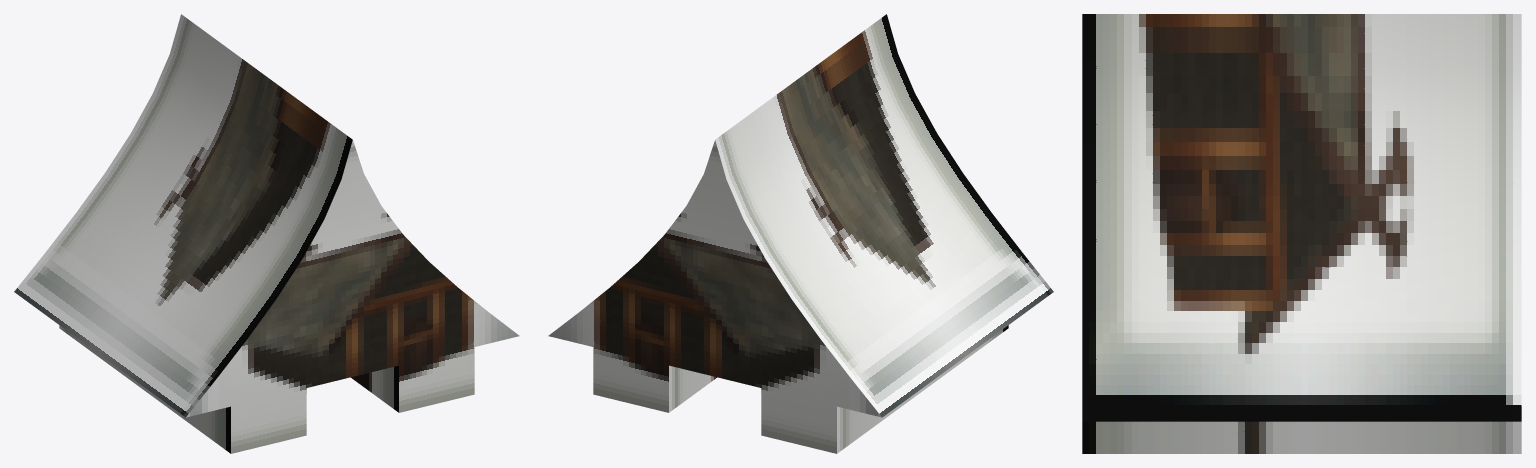
Rendered from Hut.obj.
3 renders of one model, left to right at view 1: azimuth 30°, elevation 25°; view 2: azimuth 150°, elevation 25°; view 3: azimuth 270°, elevation 25°, orthographic. The views are drawn at different scales.
Visible parts, largest first — view 1: Line002; view 2: Line002; view 3: Line002.
Part boxes in pixels (x1,y1,x2,y2): Line002: (14, 14, 519, 453); Line002: (548, 14, 1053, 453); Line002: (1082, 14, 1521, 453).
Bounding box in the file's own units: 22.19 × 18.06 × 19.75.
